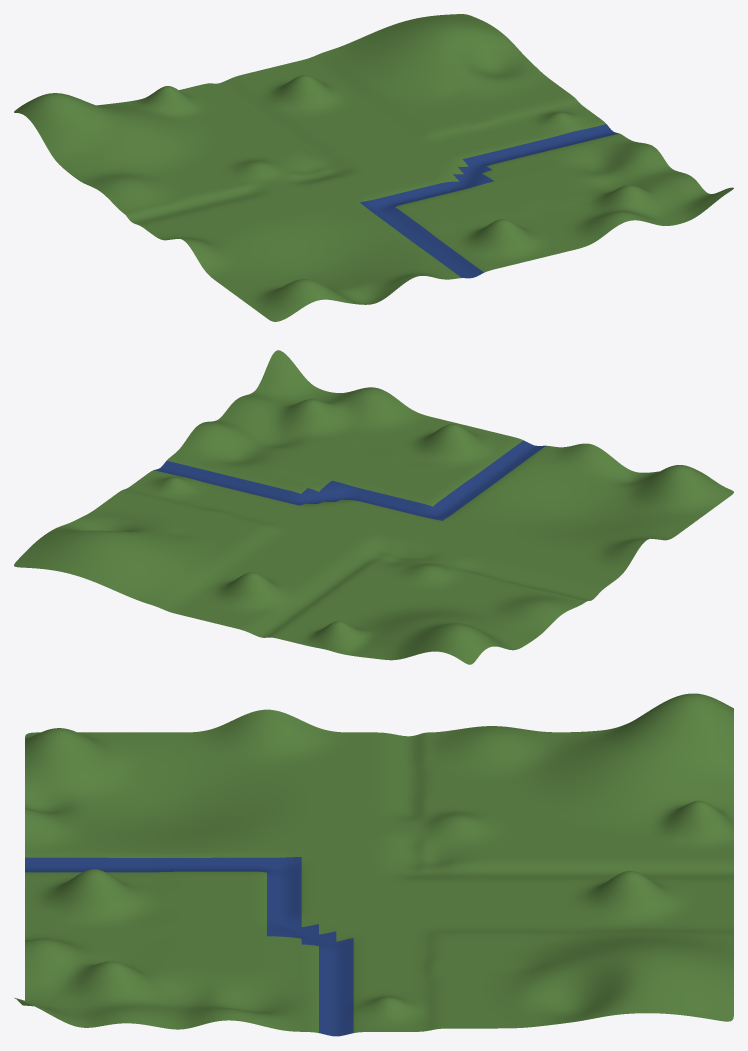
Rendered from GroundTest.fbx.
The picture shows the model from 3 angles, top to bottom: view 1: azimuth 30°, elevation 25°; view 2: azimuth 150°, elevation 25°; view 3: azimuth 270°, elevation 25°; orthographic projection. The views are drawn at different scales.
Parts seen in each view (by area): view 1: Plane; view 2: Plane; view 3: Plane.
Part boxes in pixels (left/top/right/bottom): Plane: left=14, top=14, right=733, bottom=321; Plane: left=14, top=350, right=733, bottom=664; Plane: left=14, top=693, right=733, bottom=1036.
Size of the model in its own units: 69142 by 7287 by 69649.
